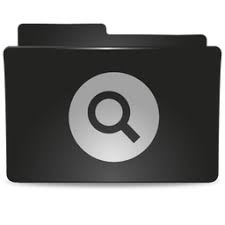searchIcon: (86, 90, 142, 144)
